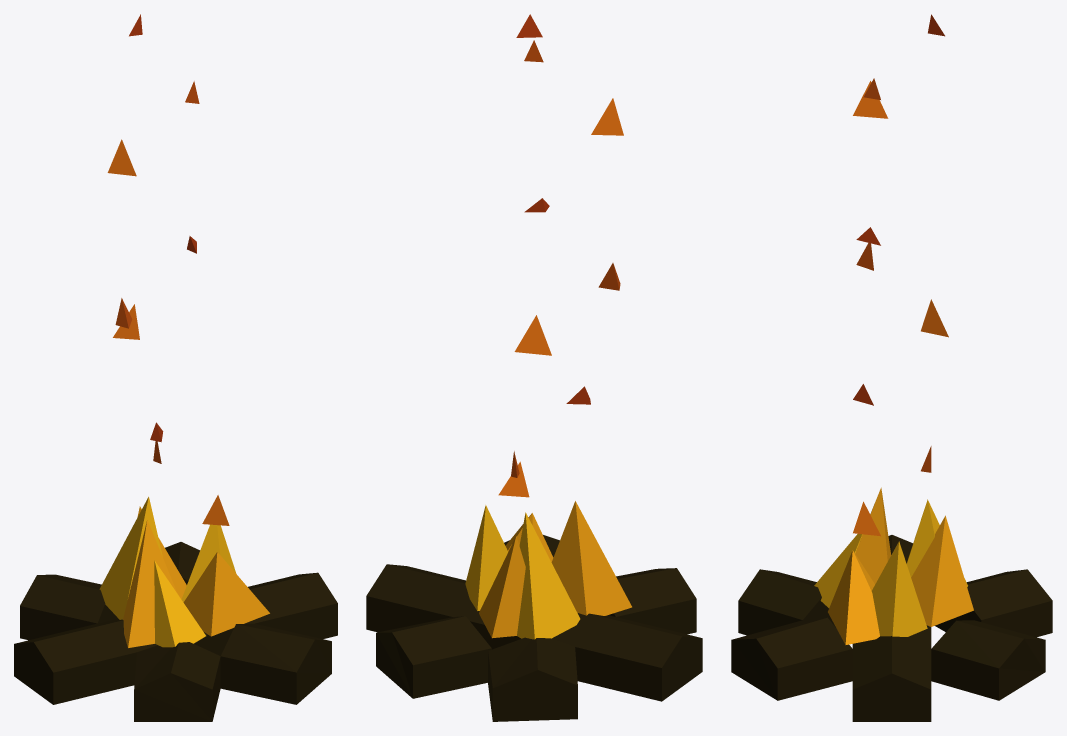
Rendered from model_loc_2732_8.obj.
3 renders of one model, left to right at view 1: azimuth 30°, elevation 25°; view 2: azimuth 150°, elevation 25°; view 3: azimuth 270°, elevation 25°, orthographic. The views are drawn at different scales.
Visible parts, largest first — view 1: 2260; view 2: 2260; view 3: 2260.
Boxes of the visible parts, <box> form: 2260: <box>14,14,337,721</box>; 2260: <box>366,14,702,721</box>; 2260: <box>731,14,1052,721</box>.
Bounding box in the file's own units: 92 × 195 × 90.
